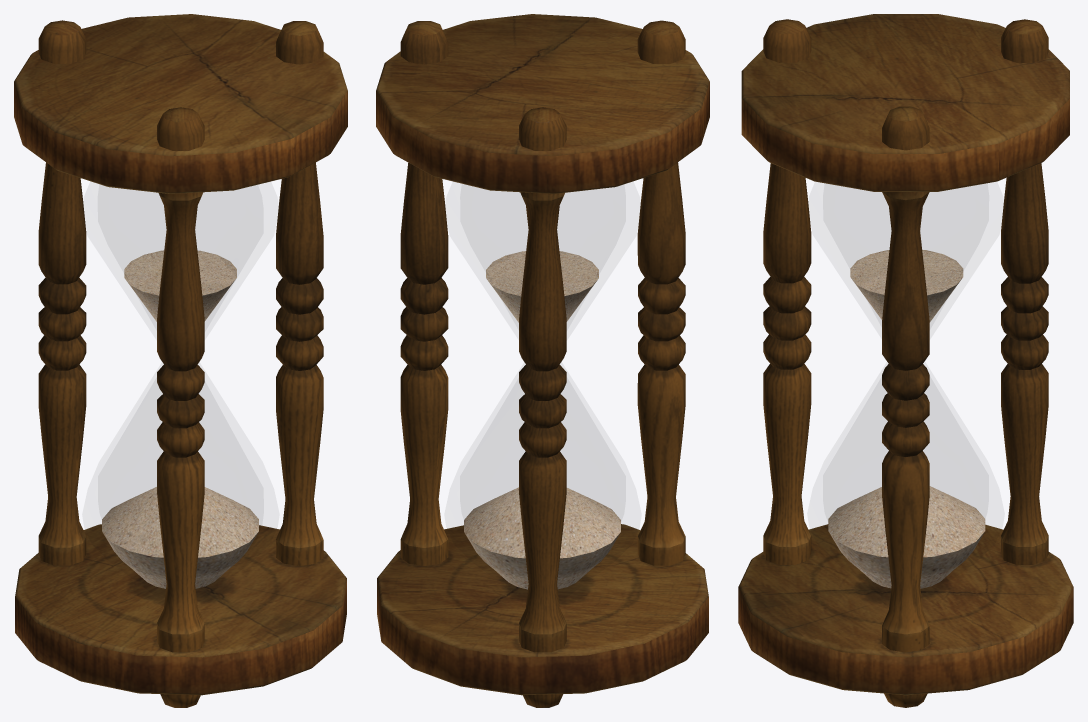
File: obj_hour_glass_baafc6.glb
3 views of the same model, side by side, from view 1: azimuth 30°, elevation 25°; view 2: azimuth 150°, elevation 25°; view 3: azimuth 270°, elevation 25° (orthographic).
Parts seen in each view (by area): view 1: obj_hour_glass_baafc6; view 2: obj_hour_glass_baafc6; view 3: obj_hour_glass_baafc6.
Boxes of the visible parts, box(x1,y1,x2,y2) form: obj_hour_glass_baafc6: box(14, 14, 347, 707); obj_hour_glass_baafc6: box(376, 14, 709, 707); obj_hour_glass_baafc6: box(738, 14, 1073, 707).
Size of the model in its own units: 0.1022 by 0.2 by 0.1022.
Materials: 2 (2 with a texture image).
